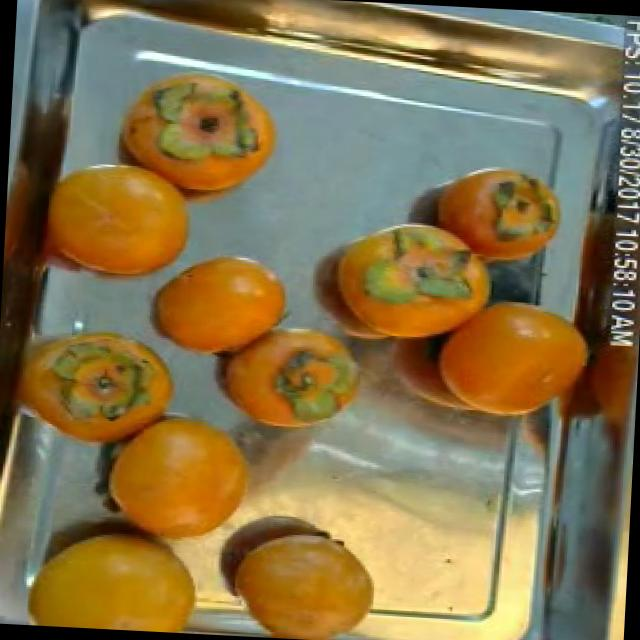Fruit: (18, 142, 217, 308), (402, 277, 610, 429), (0, 311, 194, 473), (186, 507, 396, 640), (130, 68, 290, 214), (132, 236, 304, 371), (396, 152, 576, 281)
